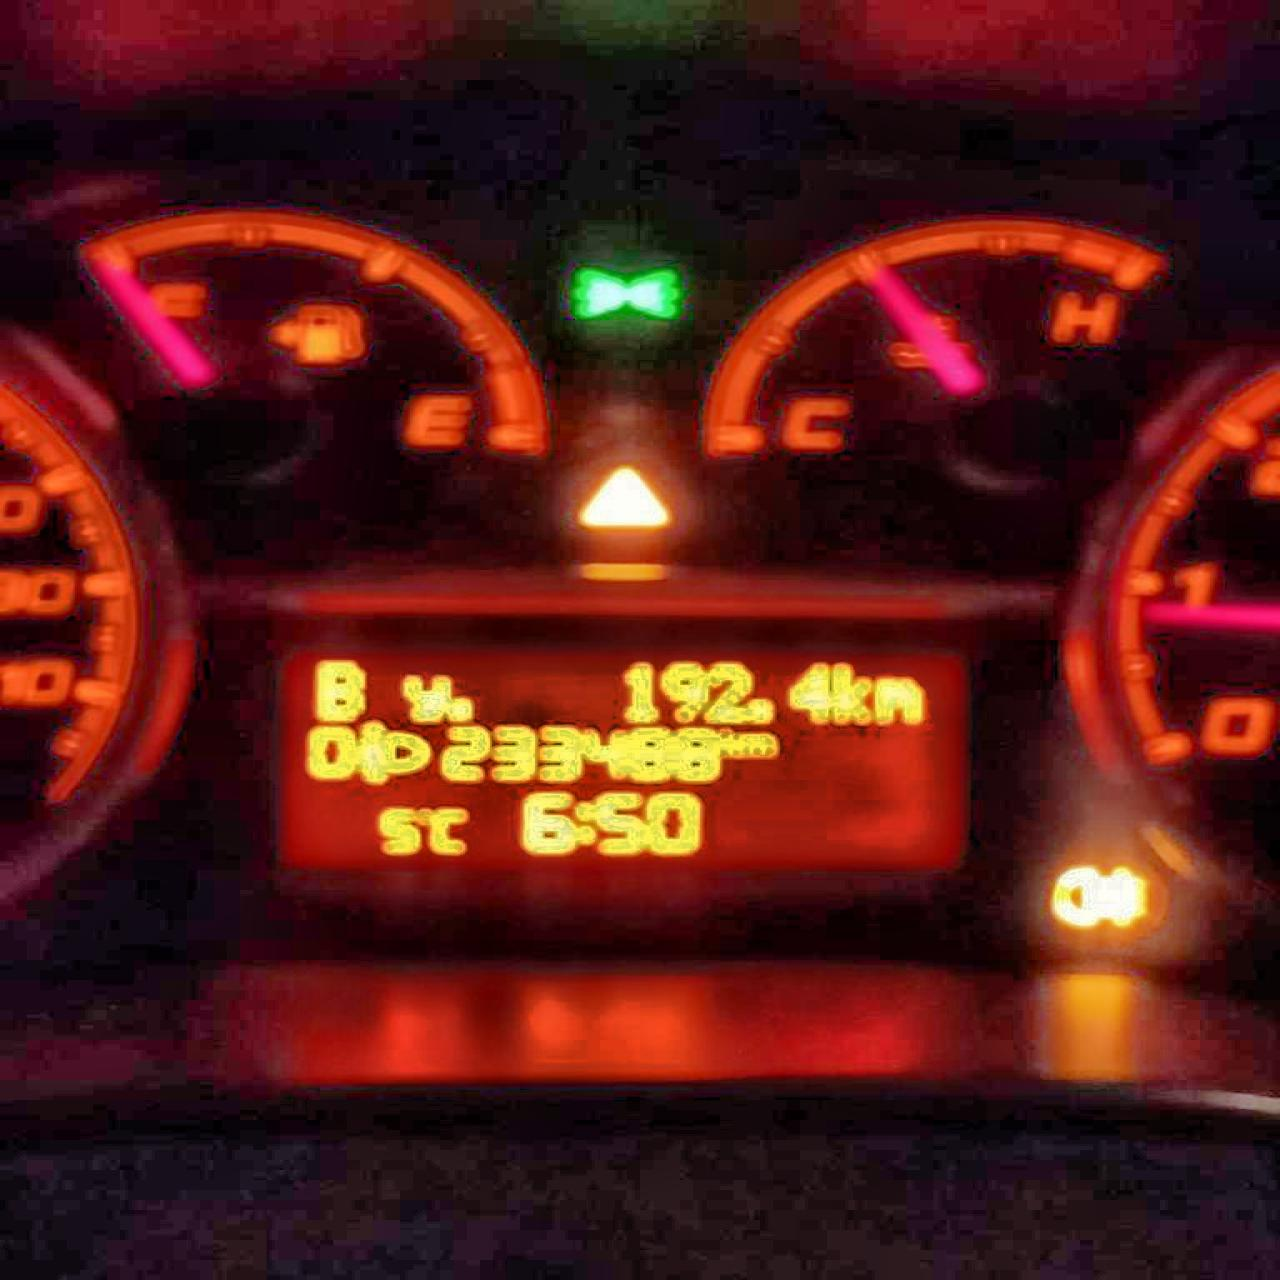-: (750, 696, 777, 726), (449, 695, 474, 723)
0: (647, 789, 701, 856), (301, 722, 355, 782)
1: (617, 658, 659, 723)
2: (437, 722, 489, 782), (707, 658, 751, 723)
3: (490, 722, 535, 783), (537, 722, 580, 783)
4: (783, 658, 829, 727), (581, 722, 626, 783)
5: (595, 790, 645, 856), (372, 803, 416, 856)
6: (515, 788, 576, 857)
8: (672, 723, 719, 783), (627, 726, 670, 783)
9: (659, 658, 704, 724)
X: (309, 658, 365, 722), (396, 670, 451, 724), (830, 659, 872, 727), (872, 674, 925, 727), (428, 805, 470, 855), (738, 729, 782, 760), (573, 797, 594, 846), (719, 726, 740, 760)
odometer: (266, 639, 976, 873)
